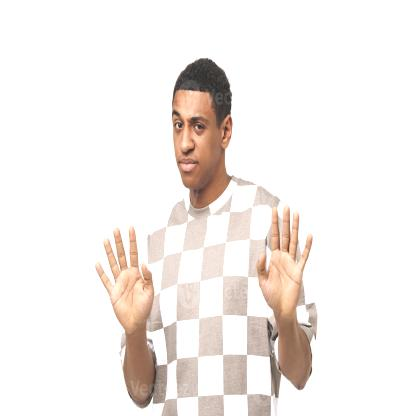Stop: (95, 229, 163, 333), (256, 203, 309, 319)
